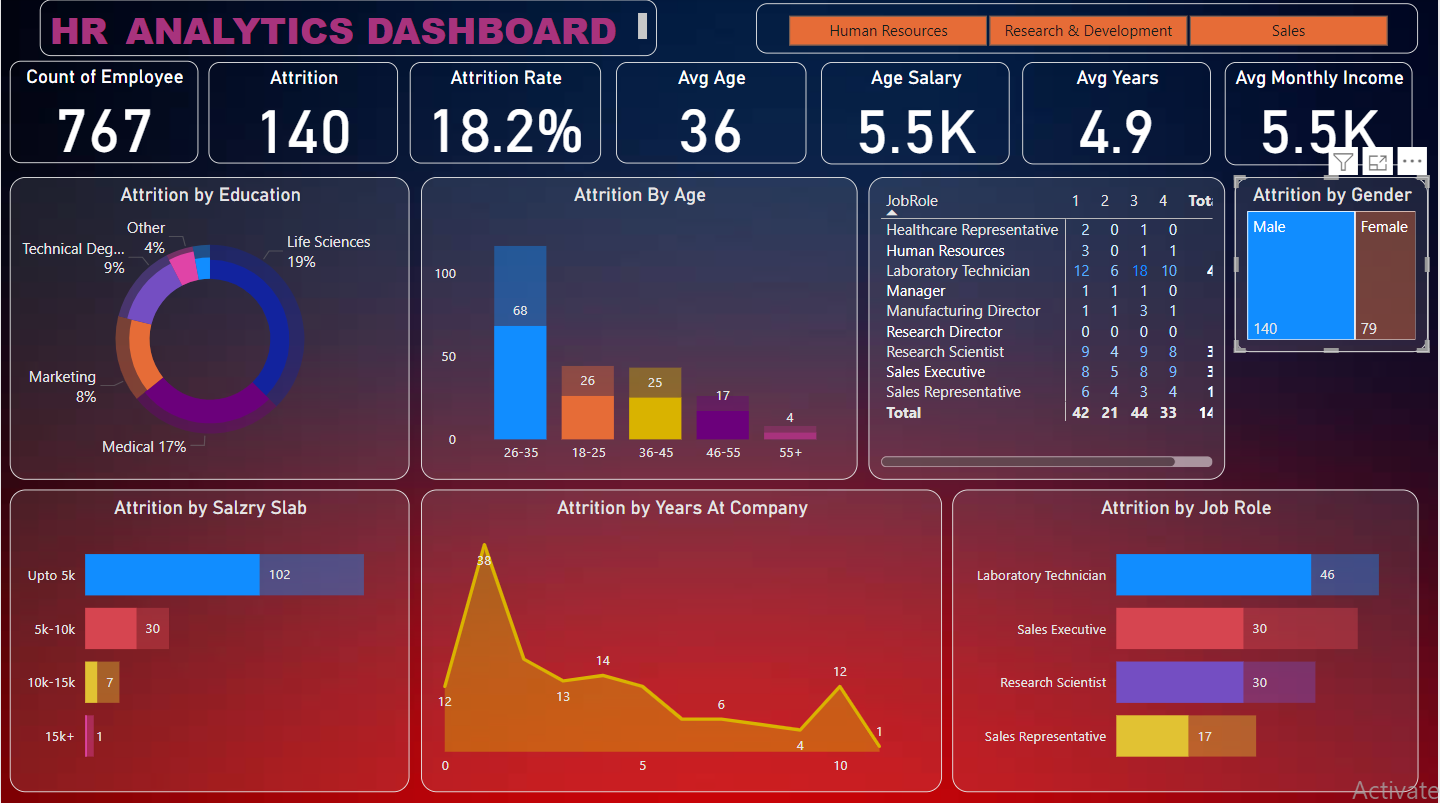

What the dashboard file says about the page in this screenshot:
{"tool":"powerbi","page":{"name":"Page 1","canvas":[1280,720],"ordinal":0},"visuals":[{"type":"card","title":"Count of Employee","fields":{"Values":["Count(HR_Analytics.EmpID)"]},"box":[7.8,56.8,168.1,91.3],"z":0},{"type":"card","title":"Attrition","fields":{"Values":["Sum(HR_Analytics.AttritionCount)"]},"box":[185.2,57.6,168.8,90.6],"z":1000},{"type":"card","title":"Attrition Rate","fields":{"Values":["HR_Analytics.AttritionRate"]},"box":[364,57.9,170.3,90.2],"z":2000},{"type":"card","title":"Avg Age","fields":{"Values":["Avg(HR_Analytics.Age)"]},"box":[547.7,57.9,169.2,90.2],"z":3000},{"type":"card","title":"Age Salary","fields":{"Values":["Avg(HR_Analytics.MonthlyIncome)"]},"box":[730.2,57.9,168.1,91.3],"z":4000},{"type":"card","title":"Avg Years","fields":{"Values":["Avg(HR_Analytics.YearsAtCompany)"]},"box":[909.5,57.9,168.1,91.3],"z":5000},{"type":"donutChart","title":"Attrition by Education","fields":{"Category":["HR_Analytics.EducationField"],"Y":["Sum(HR_Analytics.AttritionCount)"]},"box":[7.8,160.3,356.2,269.4],"z":6000},{"type":"columnChart","title":"Attrition By Age","fields":{"Category":["HR_Analytics.AgeGroup"],"Y":["Sum(HR_Analytics.AttritionCount)"]},"box":[374,160.3,388.5,269.4],"z":7000},{"type":"pivotTable","fields":{"Rows":["HR_Analytics.JobRole"],"Columns":["HR_Analytics.JobSatisfaction"],"Values":["Sum(HR_Analytics.AttritionCount)"]},"box":[772.5,160.3,317.3,269.4],"z":8000},{"type":"barChart","title":"Attrition by Salzry Slab","fields":{"Category":["HR_Analytics.SalarySlab"],"Y":["Sum(HR_Analytics.AttritionCount)"]},"box":[7.8,438.6,356.2,269.4],"z":9000},{"type":"barChart","title":"Attrition by Job Role","fields":{"Category":["HR_Analytics.JobRole"],"Y":["Sum(HR_Analytics.AttritionCount)"]},"box":[847.1,438.6,415.2,269.4],"z":10000},{"type":"areaChart","title":"Attrition by Years At Company","fields":{"Category":["HR_Analytics.YearsAtCompany"],"Y":["Sum(HR_Analytics.AttritionCount)"]},"box":[374,438.6,464.2,269.4],"z":11000},{"type":"treemap","title":"Attrition by Gender","fields":{"Group":["HR_Analytics.Gender"],"Values":["Sum(HR_Analytics.AttritionCount)"]},"box":[1098.8,160.5,172.1,155.8],"z":12000},{"type":"slicer","fields":{"Values":["HR_Analytics.Department"]},"box":[672.4,5.6,590,44.5],"z":13000},{"type":"textbox","box":[34.9,2.3,551.2,55.8],"z":14000},{"type":"card","title":"Avg Monthly Income","fields":{"Values":["Avg(HR_Analytics.MonthlyIncome)"]},"box":[1089.5,58.1,167.4,91.9],"z":15000}]}

Visuals, with their boxes in screenshot pixels (x1, y1, x2, y2), scaled from the page's 1280x720 canvas onto the 1440x803 screenshot:
"Count of Employee" card: rect(9, 63, 198, 165)
"Attrition" card: rect(208, 64, 398, 165)
"Attrition Rate" card: rect(410, 65, 601, 165)
"Avg Age" card: rect(616, 65, 807, 165)
"Age Salary" card: rect(821, 65, 1011, 166)
"Avg Years" card: rect(1023, 65, 1212, 166)
"Attrition by Education" donutChart: rect(9, 179, 410, 479)
"Attrition By Age" columnChart: rect(421, 179, 858, 479)
pivotTable - HR_Analytics.JobRole x HR_Analytics.JobSatisfaction: rect(869, 179, 1226, 479)
"Attrition by Salzry Slab" barChart: rect(9, 489, 410, 790)
"Attrition by Job Role" barChart: rect(953, 489, 1420, 790)
"Attrition by Years At Company" areaChart: rect(421, 489, 943, 790)
"Attrition by Gender" treemap: rect(1236, 179, 1430, 353)
slicer - HR_Analytics.Department: rect(756, 6, 1420, 56)
textbox: rect(39, 3, 659, 65)
"Avg Monthly Income" card: rect(1226, 65, 1414, 167)
